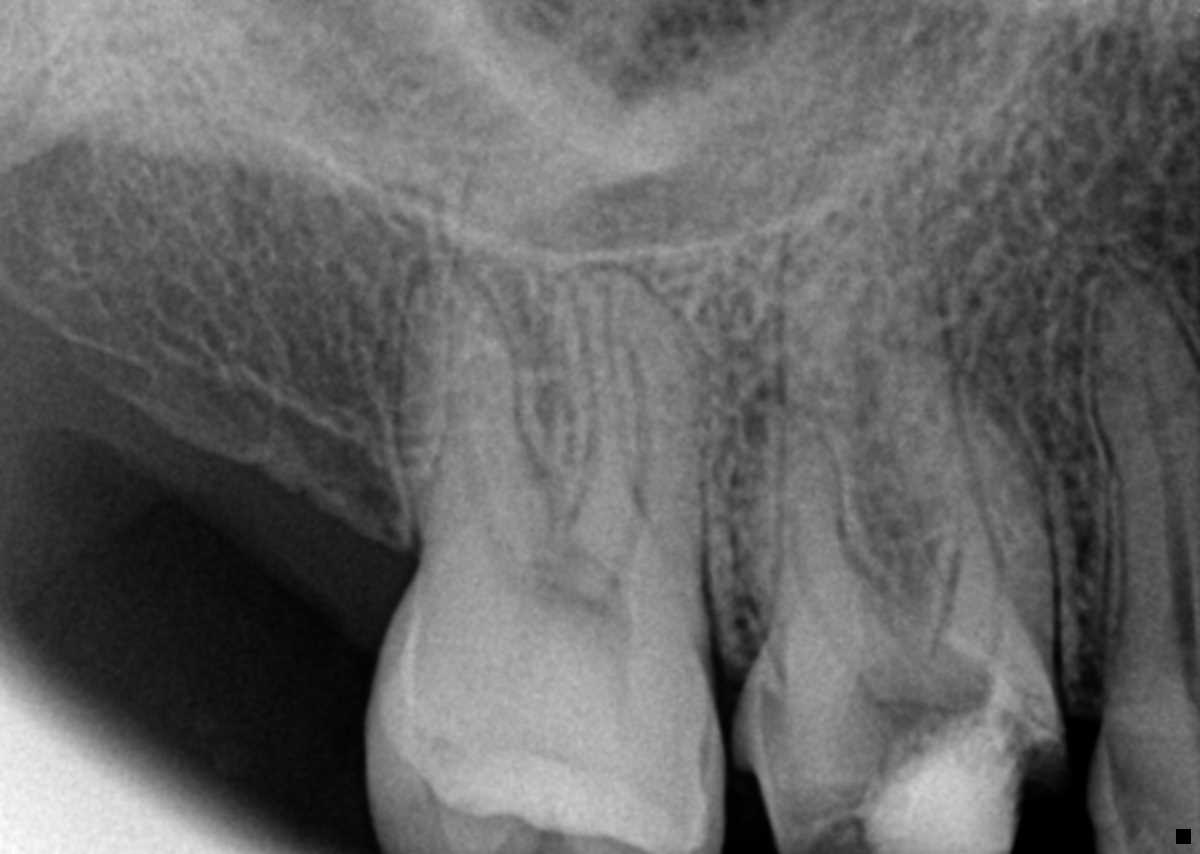Distal Canal: (786, 510, 854, 667), (449, 391, 509, 550)
Distal Root: (723, 399, 909, 680), (398, 264, 570, 567)
Main Canal: (1133, 316, 1195, 631)
Main Root: (1084, 266, 1200, 652)
Mesial Canal: (600, 338, 654, 573), (937, 517, 968, 657)
Mesial Root: (874, 348, 1056, 635), (564, 268, 704, 606)
Palatal Canal: (849, 279, 942, 647)
Palatal Root: (763, 122, 1021, 652), (405, 105, 667, 592)
decay: (760, 639, 996, 831)
